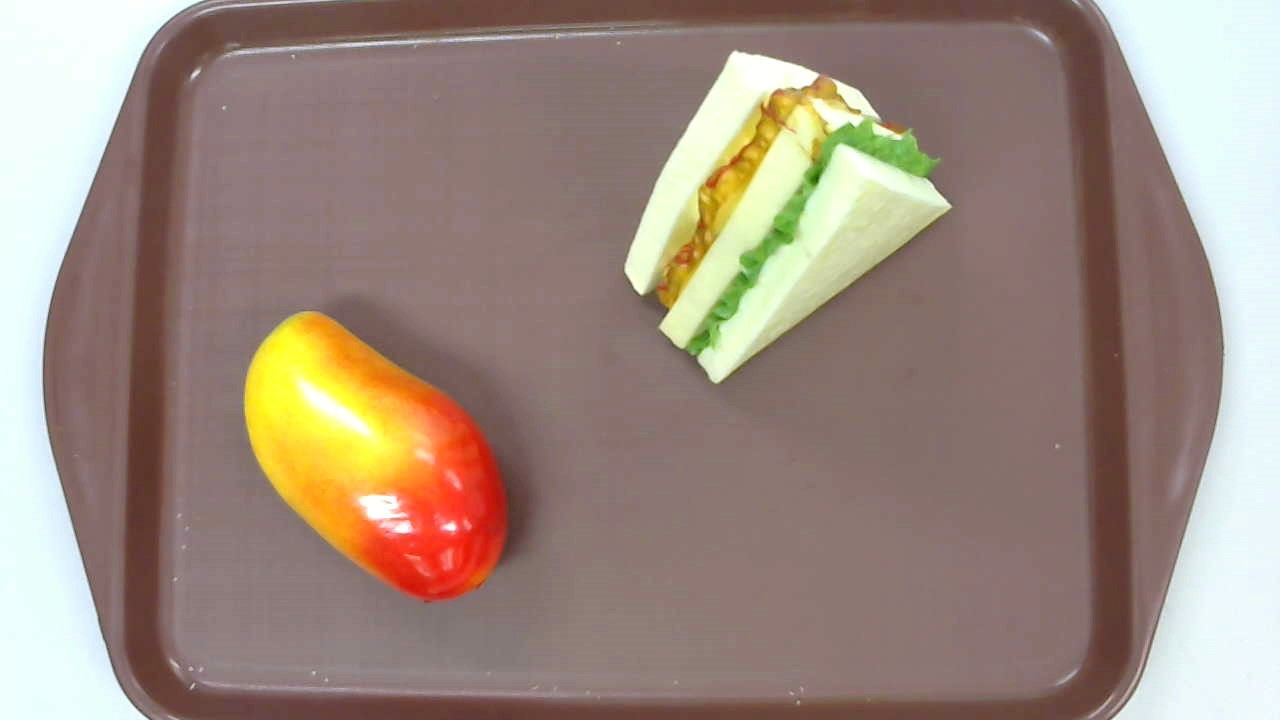red mango: (244, 310, 509, 604)
sandwich: (624, 50, 953, 385)
